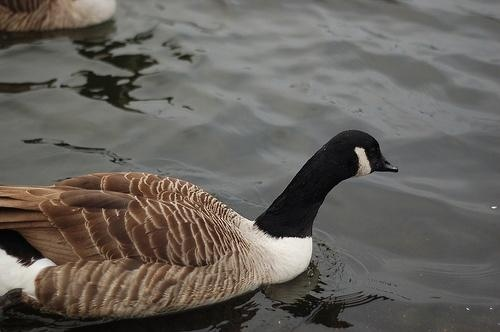bird: (1, 130, 399, 322), (1, 1, 118, 32)
